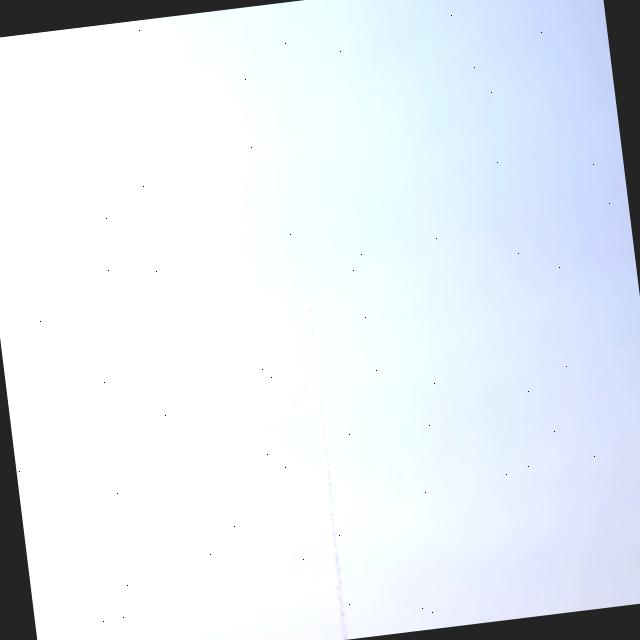smoke_trail_with_rocket: (307, 310, 348, 640)
